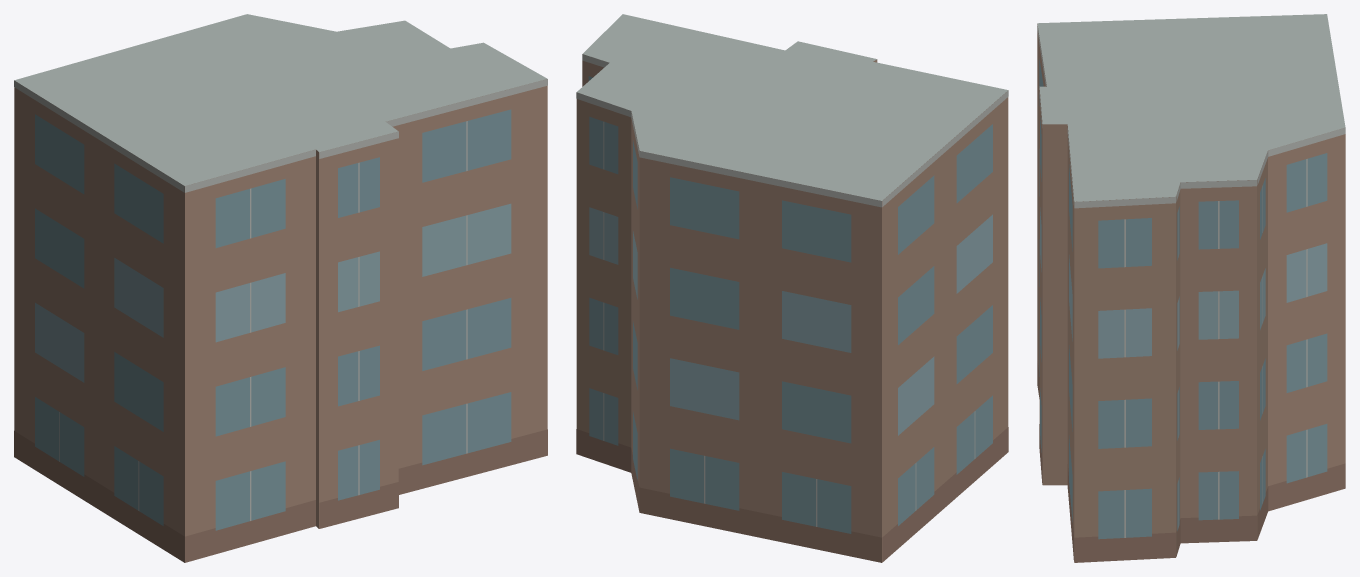
The model's file is survey-upis-32487262.glb.
The picture shows the model from 3 angles, left to right: view 1: azimuth 30°, elevation 25°; view 2: azimuth 150°, elevation 25°; view 3: azimuth 270°, elevation 25°; orthographic projection. The views are drawn at different scales.
Parts seen in each view (by area): view 1: survey-upis-32487262.tmp; view 2: survey-upis-32487262.tmp; view 3: survey-upis-32487262.tmp.
Boxes of the visible parts, bbox=[...] form: survey-upis-32487262.tmp: bbox=[14, 14, 547, 562]; survey-upis-32487262.tmp: bbox=[576, 14, 1008, 562]; survey-upis-32487262.tmp: bbox=[1037, 14, 1345, 562].
Size of the model in its own units: 15.08 by 13.5 by 10.46.
